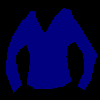felpa: (6, 8, 97, 92)
